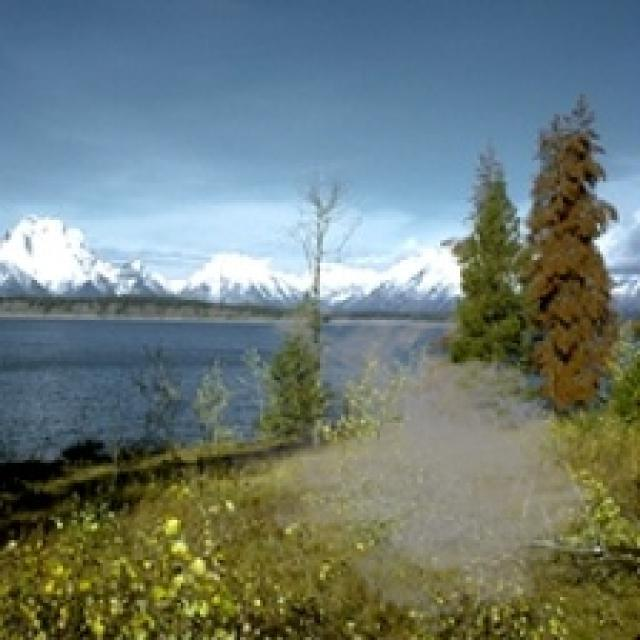Smoke: (202, 294, 618, 637)
